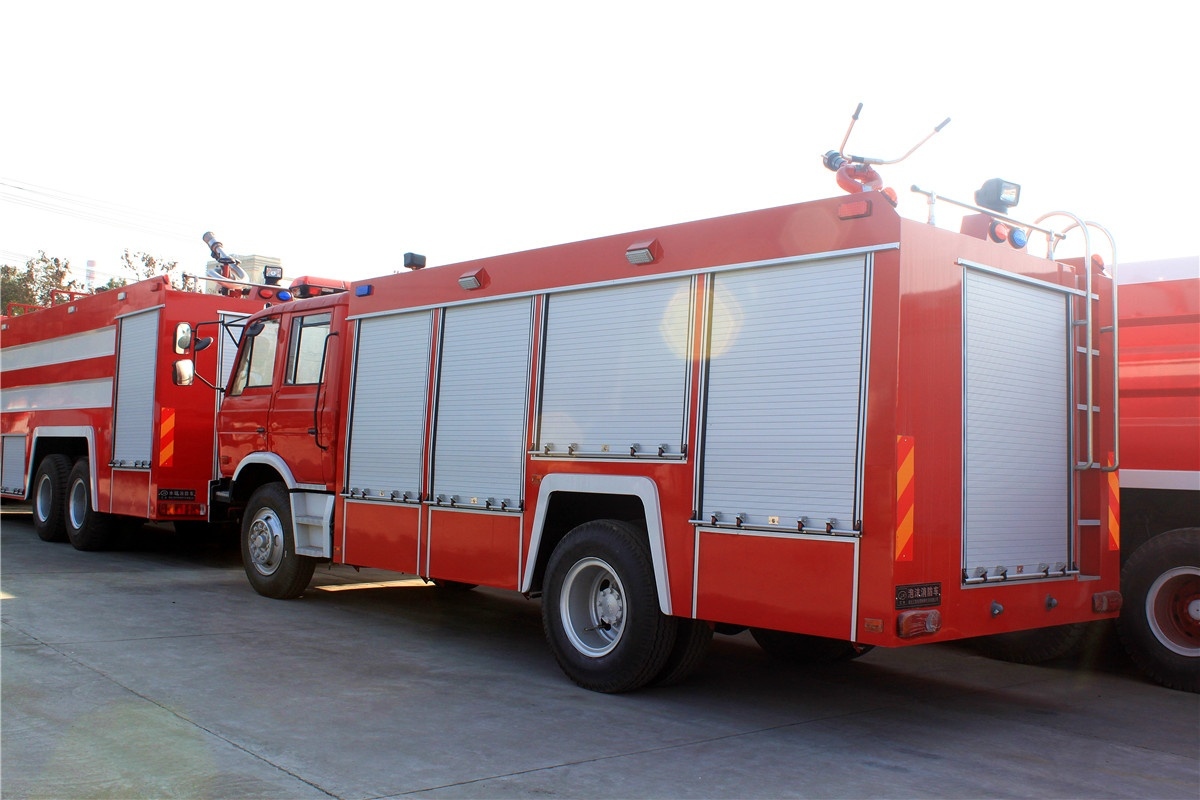fire engine: (198, 206, 1116, 712)
